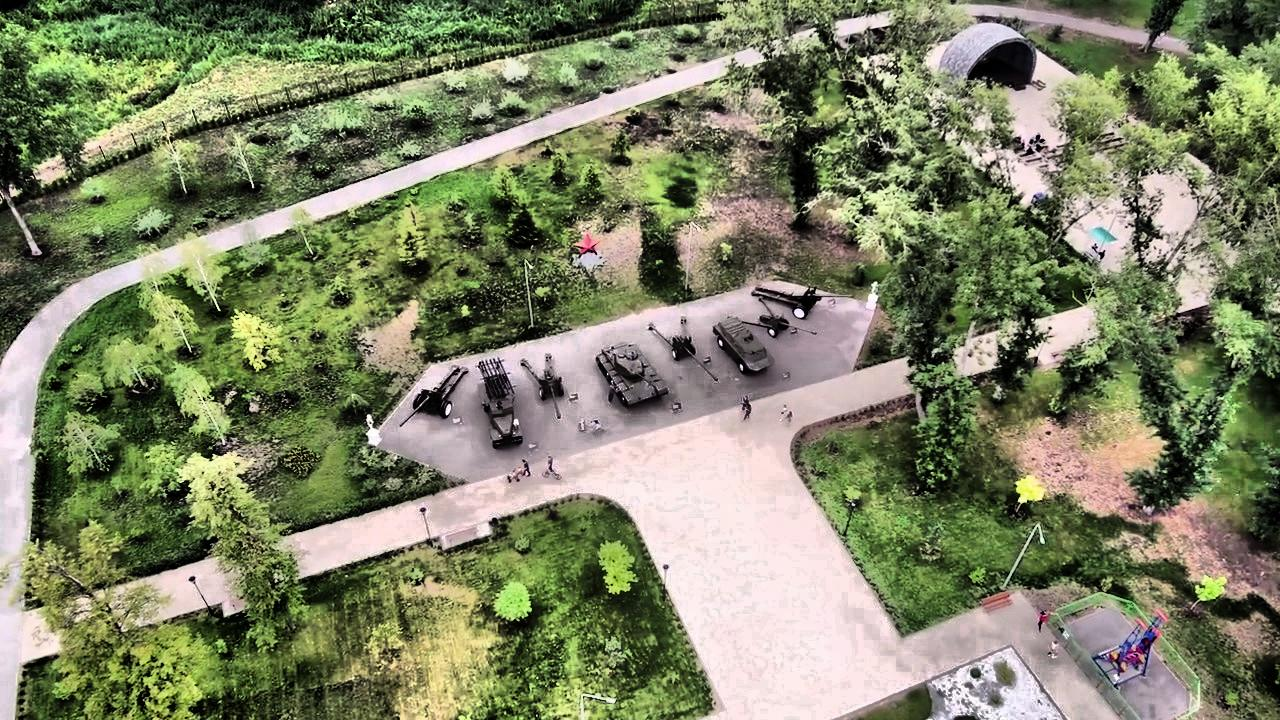military-vehicle: (597, 341, 670, 410), (474, 358, 528, 448), (712, 313, 771, 372)
